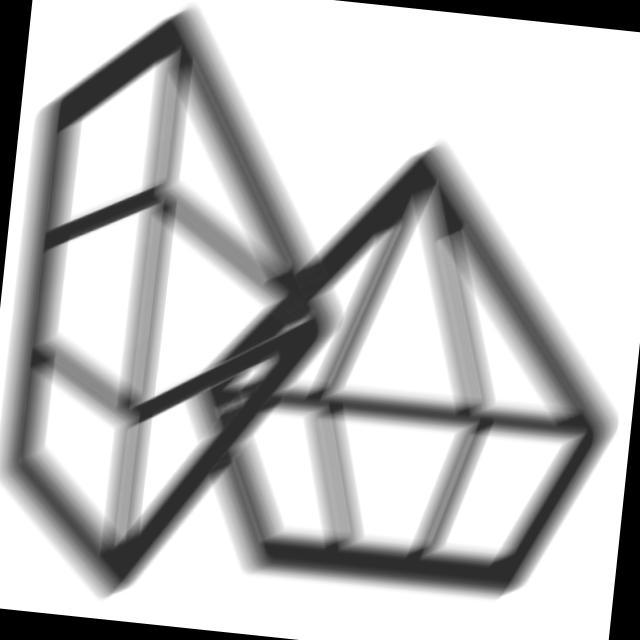diamond: (1, 1, 387, 638), (171, 106, 640, 619)
